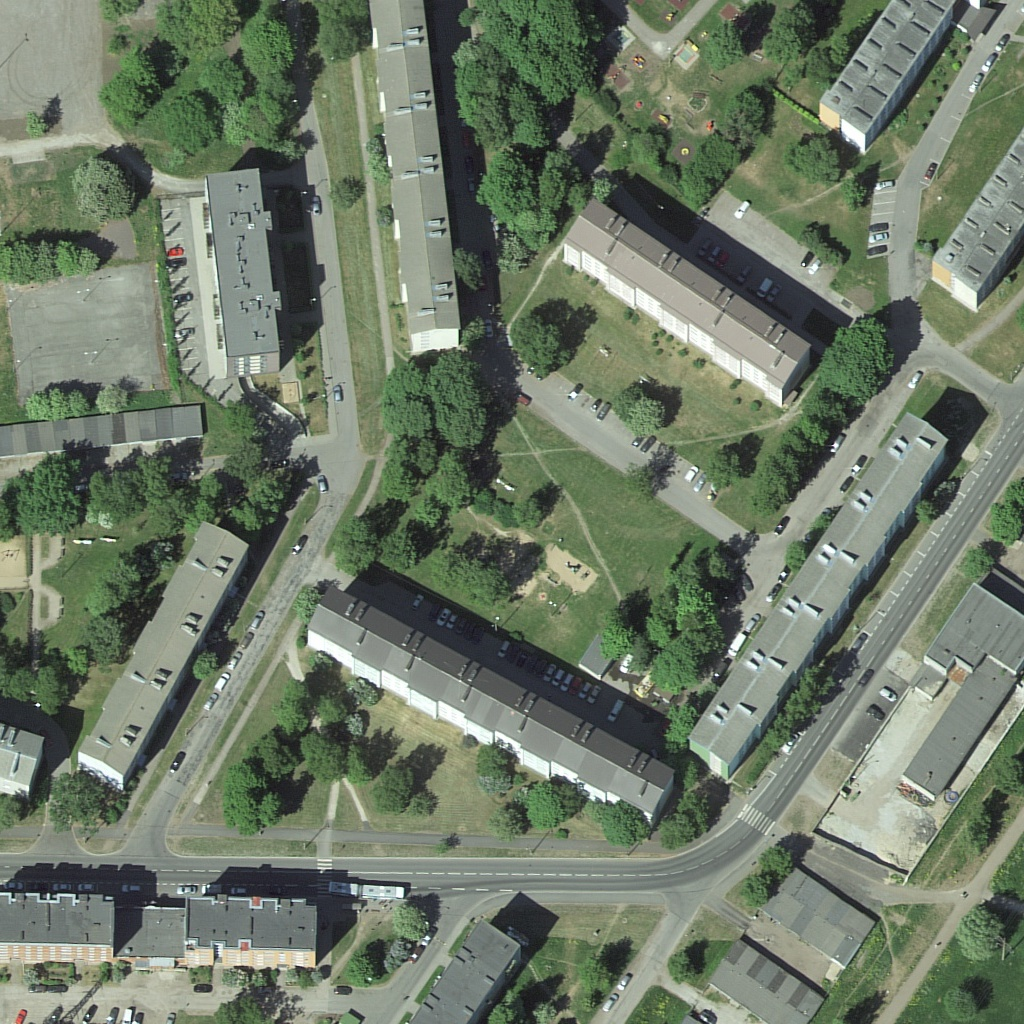building: (688, 413, 949, 781), (307, 584, 672, 828), (562, 201, 815, 403), (76, 521, 250, 791), (364, 1, 467, 353), (908, 583, 1023, 803), (818, 2, 957, 155), (204, 166, 288, 378), (928, 130, 1020, 316), (404, 916, 528, 1023), (705, 936, 829, 1024), (184, 892, 322, 968), (758, 871, 875, 958), (1, 890, 116, 966)
